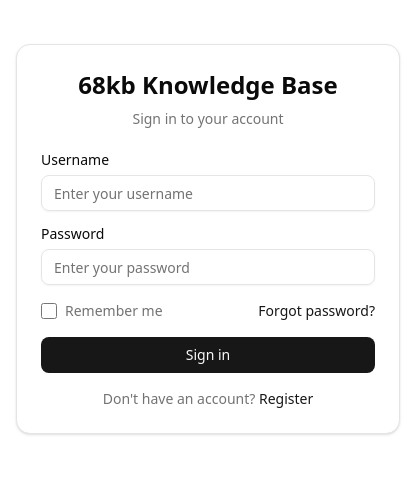
Test case: LoginPage › shows validation error for empty username
Click the button "Sign in" at coordinates (208, 355), box [41, 337, 375, 373]
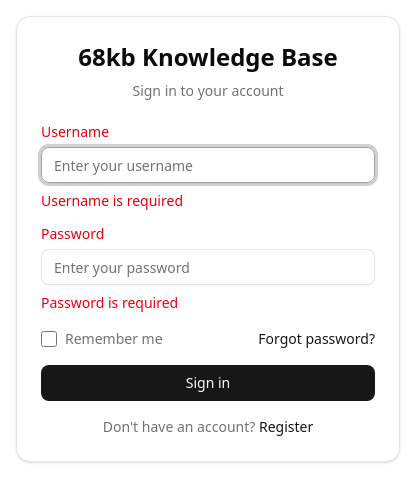
Check: the text "Username is required" is shown, box [41, 191, 183, 210]
